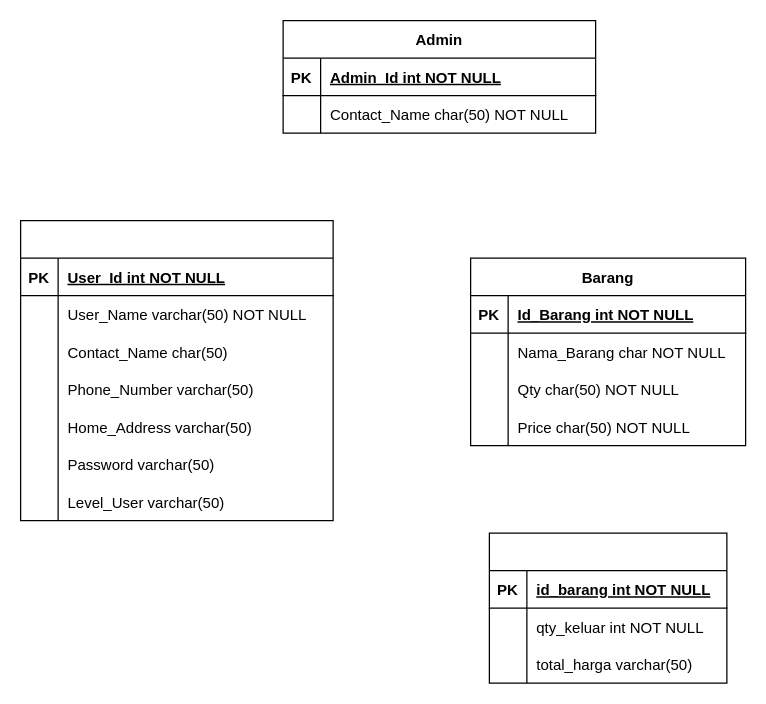
This 766x704 diagram has some shape labels left out. The box of each missing label's shape, as (x1, y1, x2, y2) in pixels:
Barang_Keluar: (488, 532, 727, 683)
Users: (19, 219, 333, 521)
